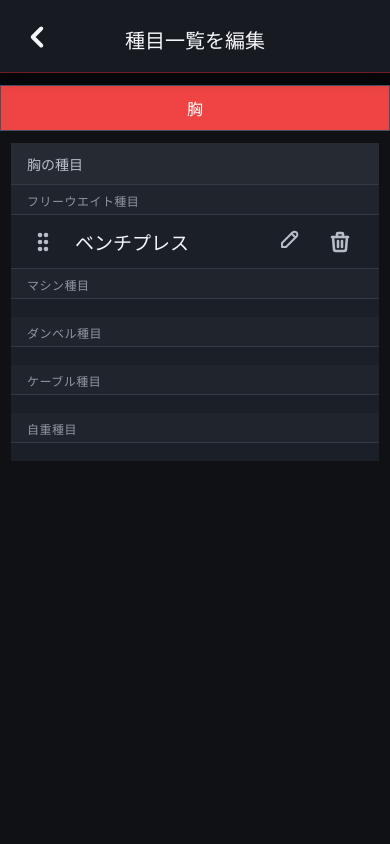
it: ExerciseManageScreen › 確認ダイアログで了承した後に種目を削除する
Click the button named "種目を削除" at x=340, y=242, box 321,222 -> 359,260
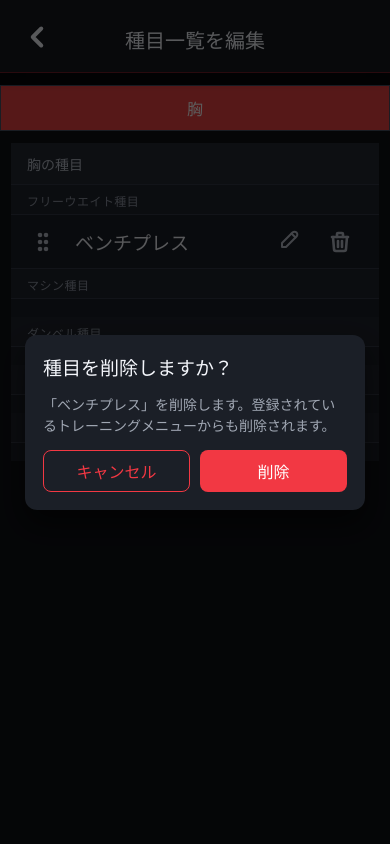
Check: the text "「ベンチプレス」を削除します。登録されているトレーニングメニューからも削除されます。" is shown, box 43,394 -> 347,436
Click the button "キャンセル" at x=116, y=470, box 43,450 -> 190,492
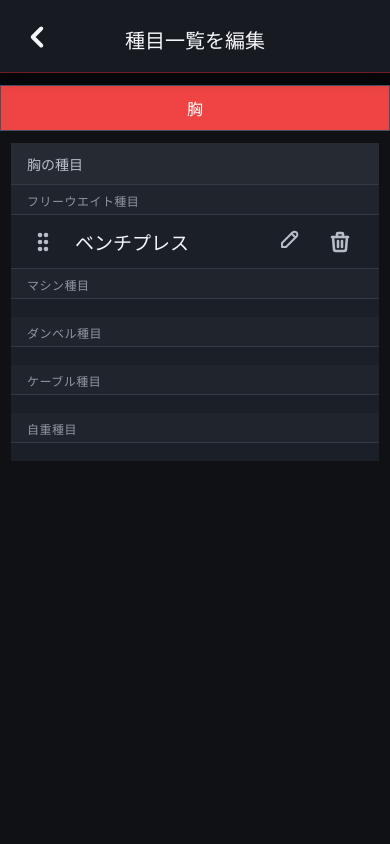
Check: the dialog is gone
Click the button named "種目を削除" at x=340, y=242, box 321,222 -> 359,260
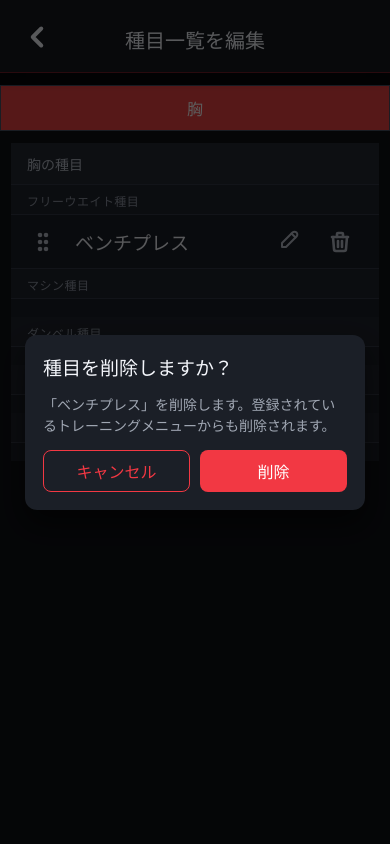
Click the button "削除" at x=274, y=470, box 200,450 -> 347,492
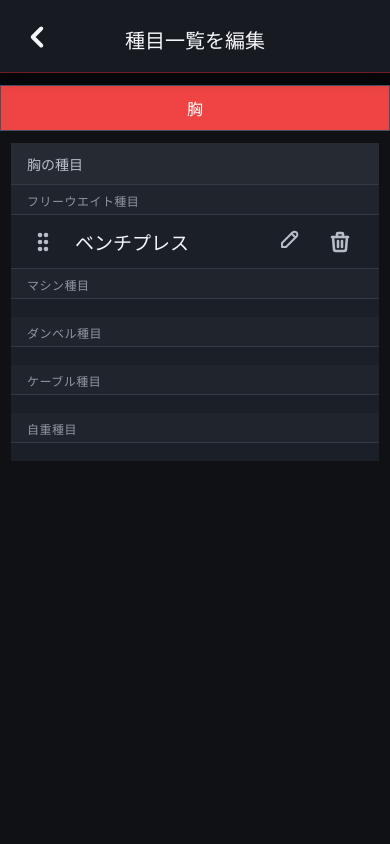
Check: the dialog is gone
